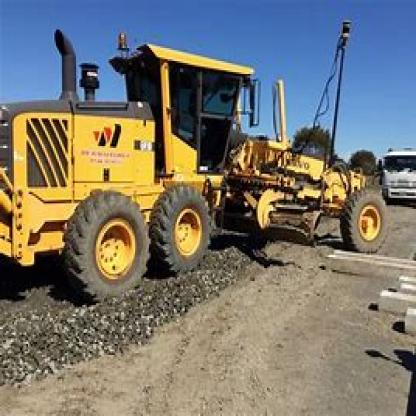bull_dozer/loader/grader: (5, 16, 414, 298)
